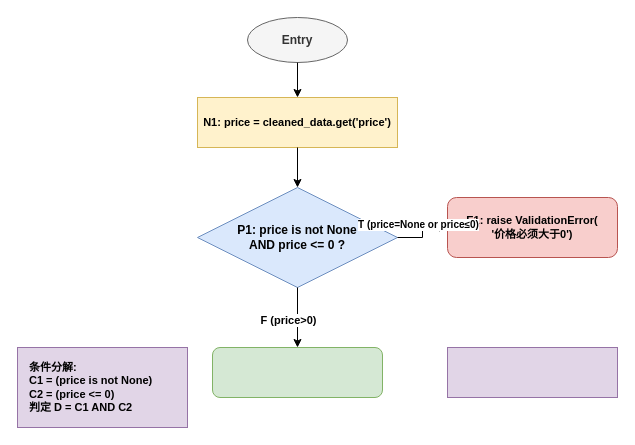
Image size: 635x445. Some labels were removed from this diagram. The centre of each missing label's shape, as x and y in pixels:
"E2: return price" goes at point (297, 372).
"V(G) = 1 + 1 = 2 基本路径数 = 2" goes at point (532, 372).
